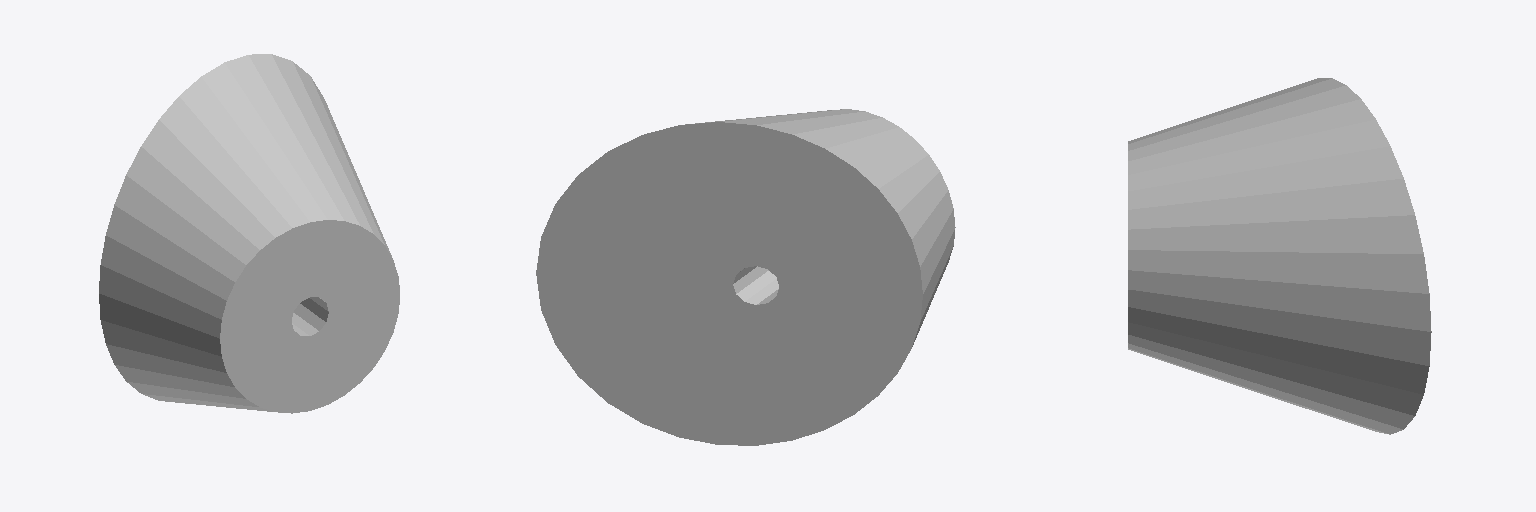
3 renders of one model, left to right at view 1: azimuth 30°, elevation 25°; view 2: azimuth 150°, elevation 25°; view 3: azimuth 270°, elevation 25°, orthographic.
Parts seen in each view (by area): view 1: <STL_BINARY>; view 2: <STL_BINARY>; view 3: <STL_BINARY>.
Boxes of the visible parts, box(x1,y1,x2,y2) form: <STL_BINARY>: box(99, 54, 399, 413); <STL_BINARY>: box(536, 109, 955, 445); <STL_BINARY>: box(1128, 78, 1431, 434).
Bounding box in the file's own units: 33.47 × 33.09 × 28.13.